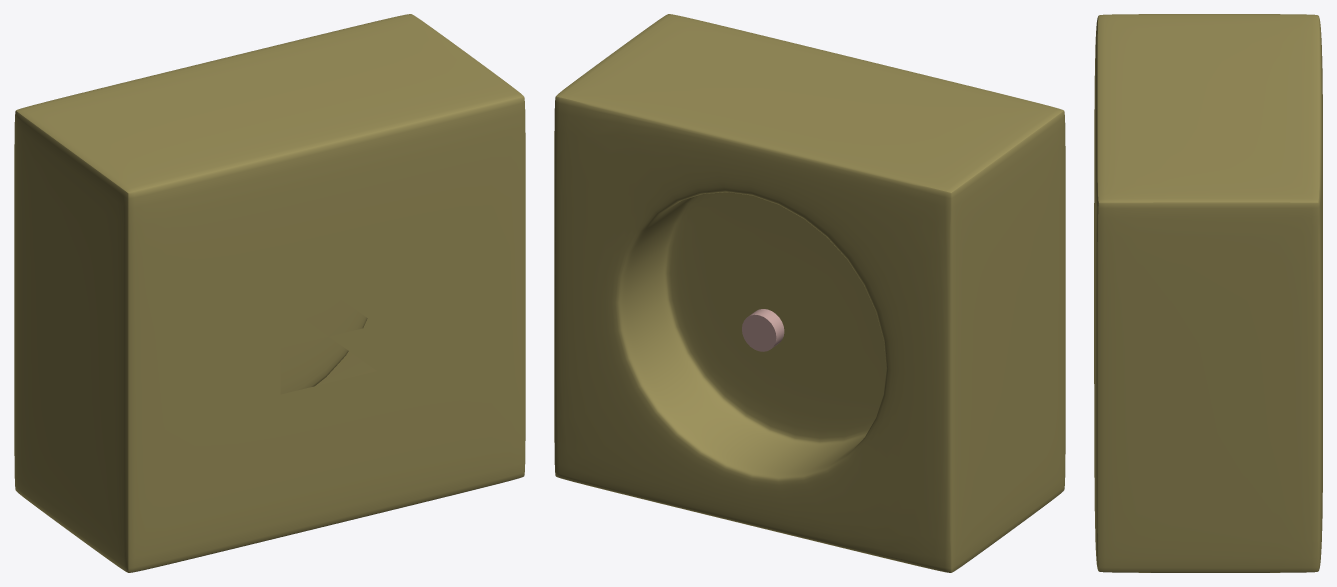
The model's file is fan_carcas.glb.
3 renders of one model, left to right at view 1: azimuth 30°, elevation 25°; view 2: azimuth 150°, elevation 25°; view 3: azimuth 270°, elevation 25°, orthographic. The views are drawn at different scales.
Parts seen in each view (by area): view 1: Circle_2.002; view 2: Circle_2.002; view 3: Circle_2.002.
Boxes of the visible parts, x1,y1,x2,y2 form: Circle_2.002: (14,14,525,572); Circle_2.002: (554,14,1065,572); Circle_2.002: (1094,14,1322,572).
Bounding box in the file's own units: 1.39 × 1.28 × 0.7057.
